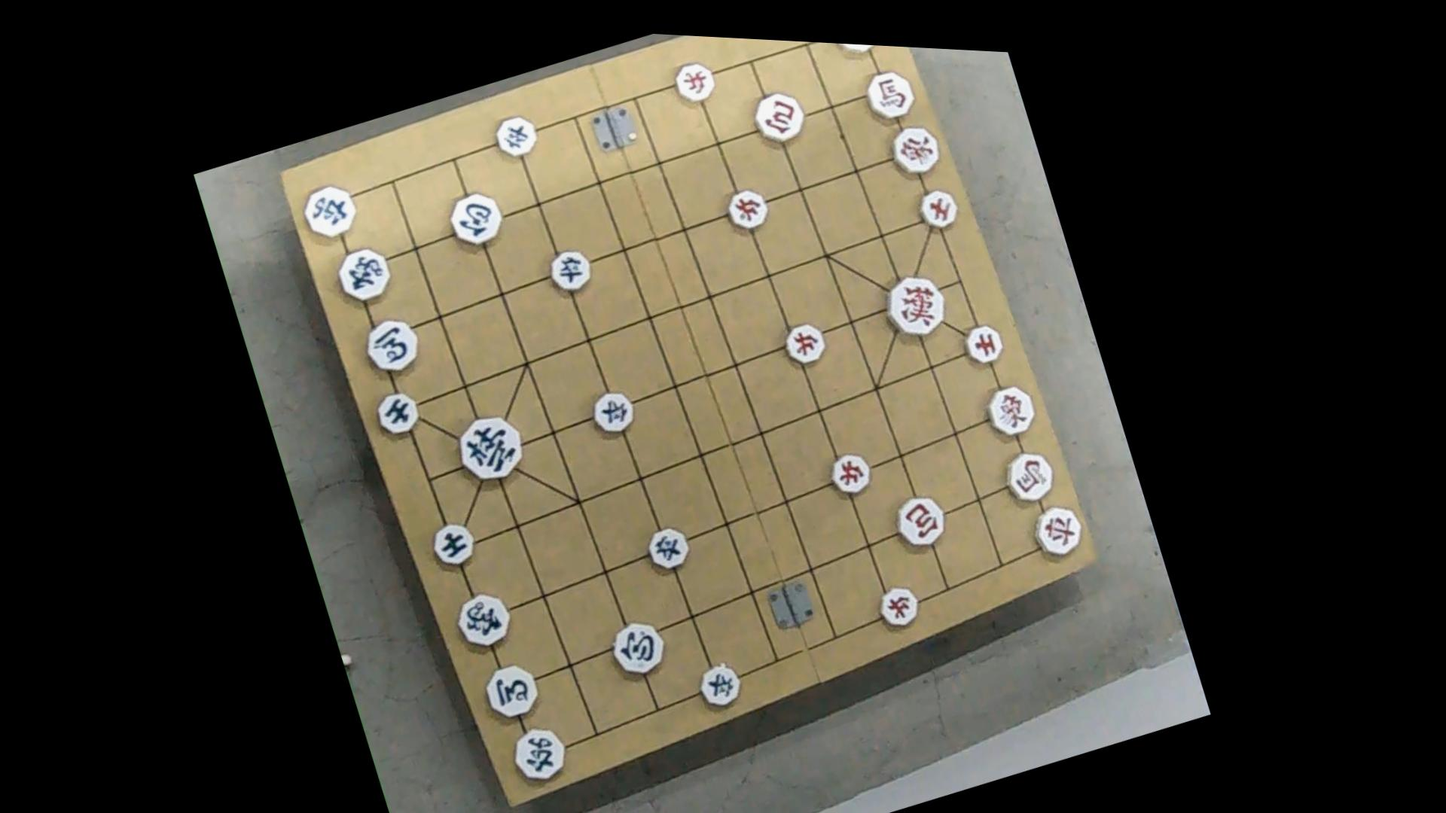cha_green: (501, 717, 578, 791), (297, 178, 363, 244)
cha_red: (1024, 499, 1088, 563), (826, 43, 883, 64)
jol_green: (694, 658, 746, 713), (585, 385, 637, 439), (644, 520, 696, 574), (542, 242, 594, 295), (490, 110, 541, 163)
jol_red: (871, 582, 925, 632), (826, 450, 876, 502), (722, 179, 771, 232), (779, 318, 829, 369), (671, 59, 718, 110)
ma_green: (359, 313, 426, 379), (478, 656, 543, 723)
ma_red: (1000, 443, 1059, 507), (861, 64, 919, 126)
po_green: (444, 186, 510, 254), (604, 614, 669, 680)
po_red: (891, 489, 952, 553), (748, 85, 809, 147)
sa_green: (426, 517, 478, 573), (370, 387, 422, 440)
sa_red: (914, 182, 963, 234), (960, 318, 1007, 369)
sang_green: (444, 584, 520, 656), (330, 238, 400, 309)
sang_red: (981, 378, 1041, 442), (886, 118, 946, 181)
wang_green: (450, 406, 532, 490)
wang_red: (878, 266, 953, 342)
